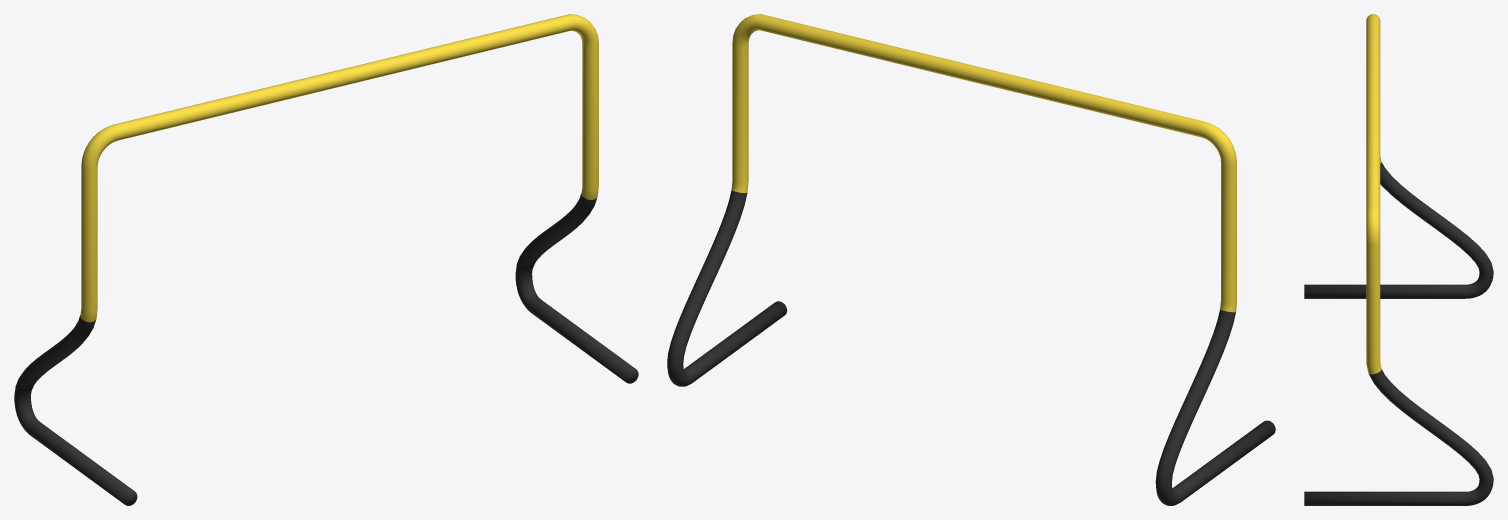
The model's file is hardle.glb.
3 renders of one model, left to right at view 1: azimuth 30°, elevation 25°; view 2: azimuth 150°, elevation 25°; view 3: azimuth 270°, elevation 25°, orthographic. The views are drawn at different scales.
Visible parts, largest first — view 1: SpeedHurdle; view 2: SpeedHurdle; view 3: SpeedHurdle.
Part boxes in pixels (left/top/right/bottom): SpeedHurdle: left=14, top=14, right=638, bottom=505; SpeedHurdle: left=667, top=14, right=1275, bottom=505; SpeedHurdle: left=1304, top=14, right=1493, bottom=505.
Bounding box in the file's own units: 1 × 0.6387 × 0.3755.
